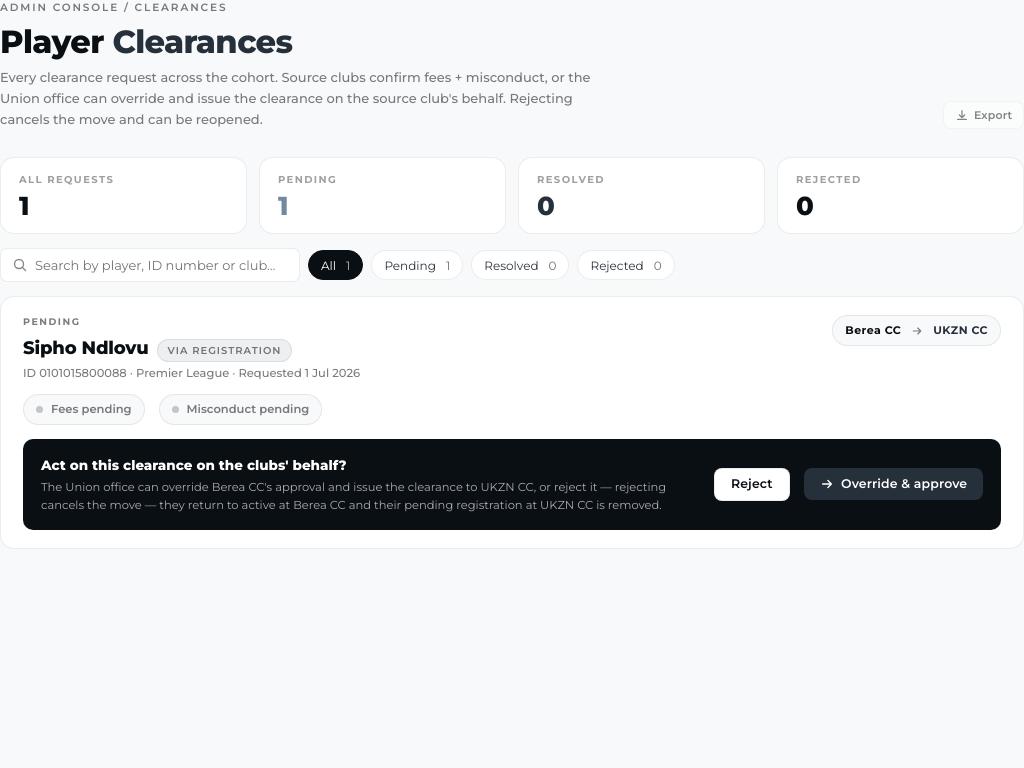
the reject confirmation names the predicted case › case B — the source row reactivates and the pending destination row is removed
The width and height of the screenshot is (1024, 768).
Click the button "Reject" at (752, 484), box [714,468,790,501]
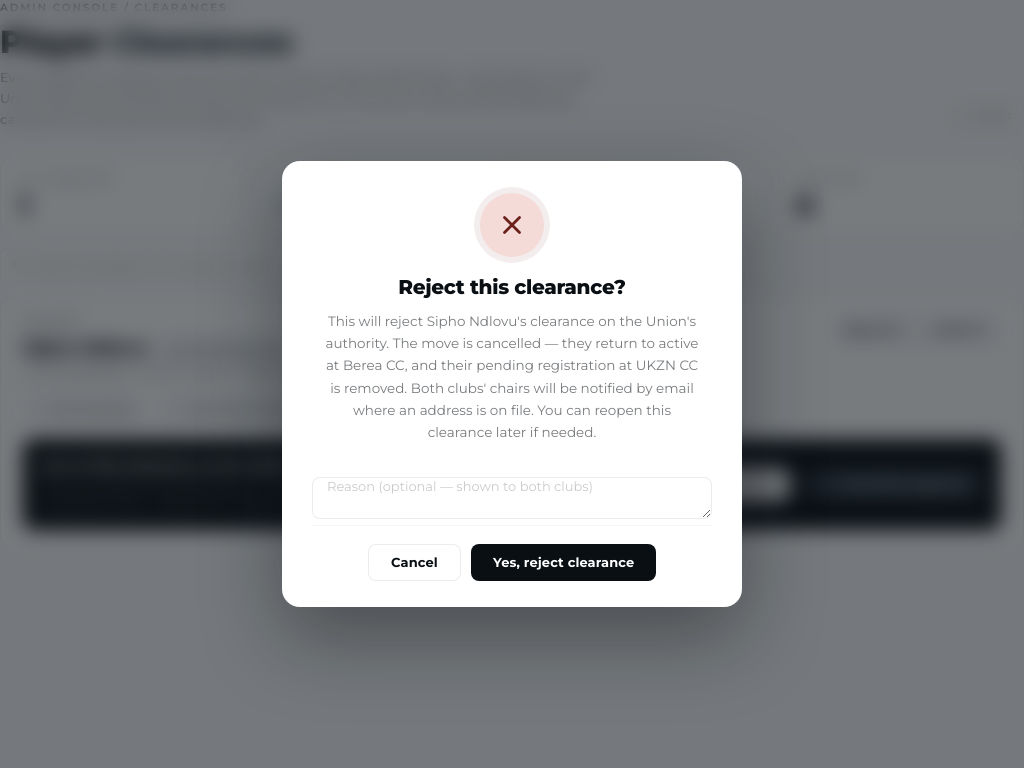
Check: the text "return to active at Berea CC, and their pending registration at UKZN CC is removed" is shown, box [326,313,699,440]
